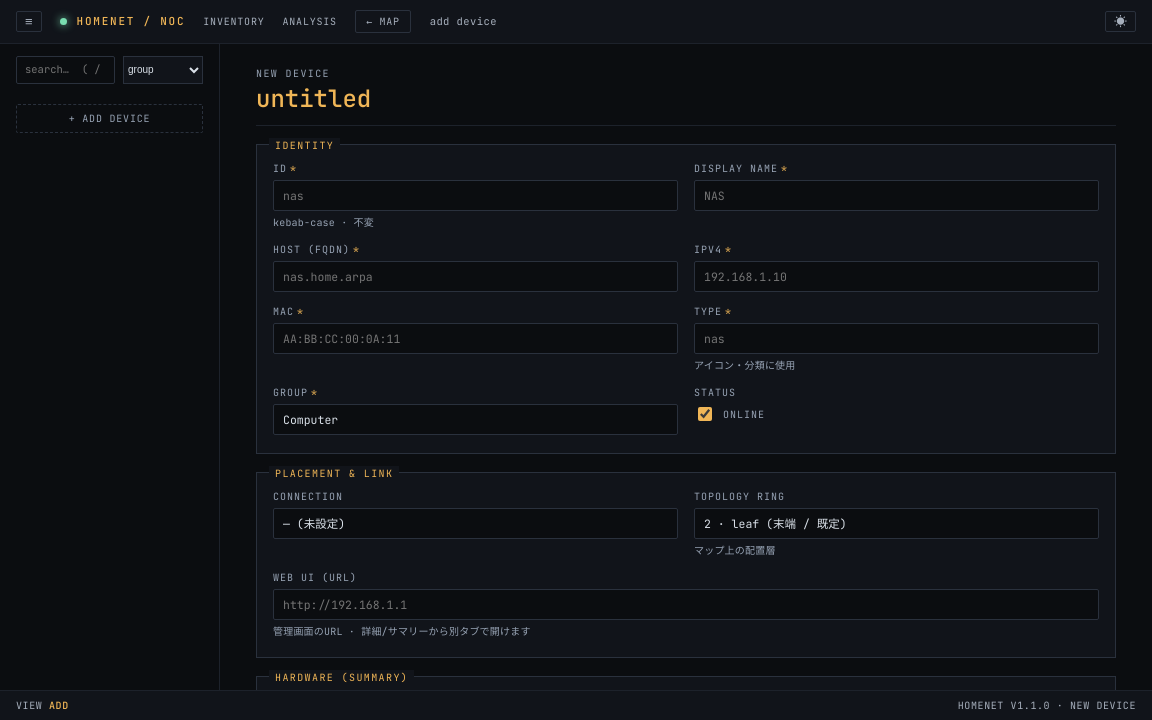
Test: EditView (add mode) › blocks submit and shows an inline error for an invalid IP
Type "Box" into the field labelled "display name*" at coordinates (896, 196), box x1=694 y1=180 x2=1099 y2=211
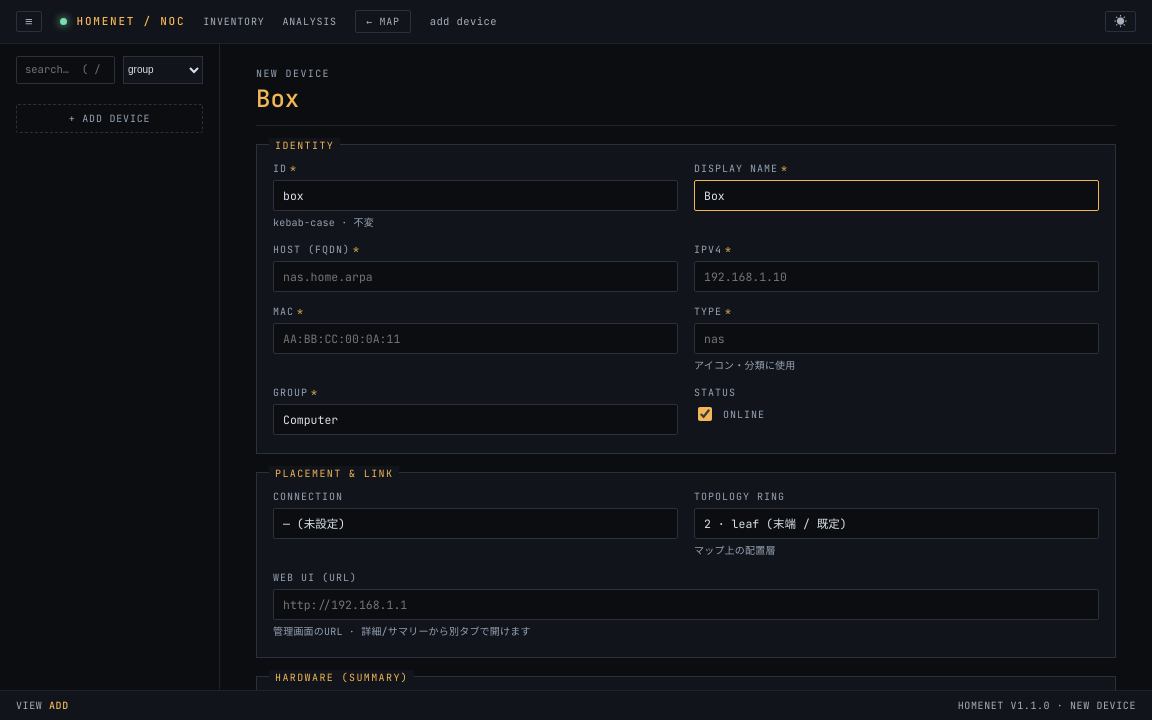
Type "box.home.arpa" into the field labelled "host (fqdn)*" at coordinates (476, 276), box x1=273 y1=261 x2=678 y2=292
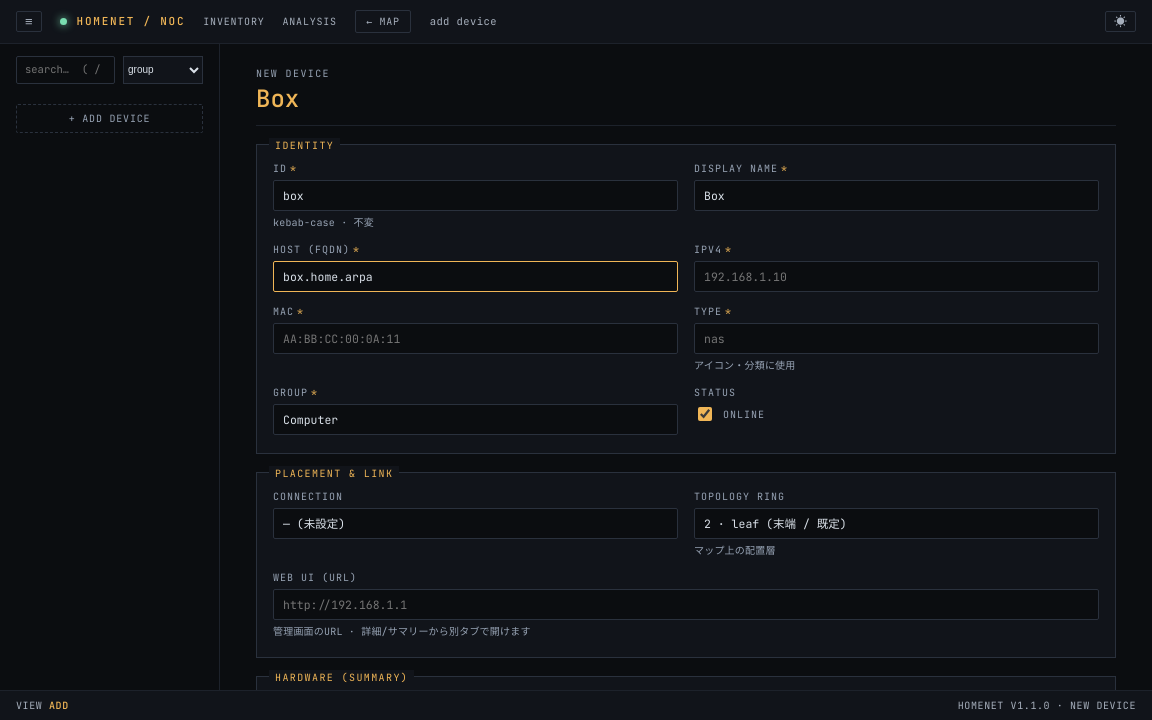
Type "desktop" into the field labelled "type*" at coordinates (896, 338), box x1=694 y1=323 x2=1099 y2=354
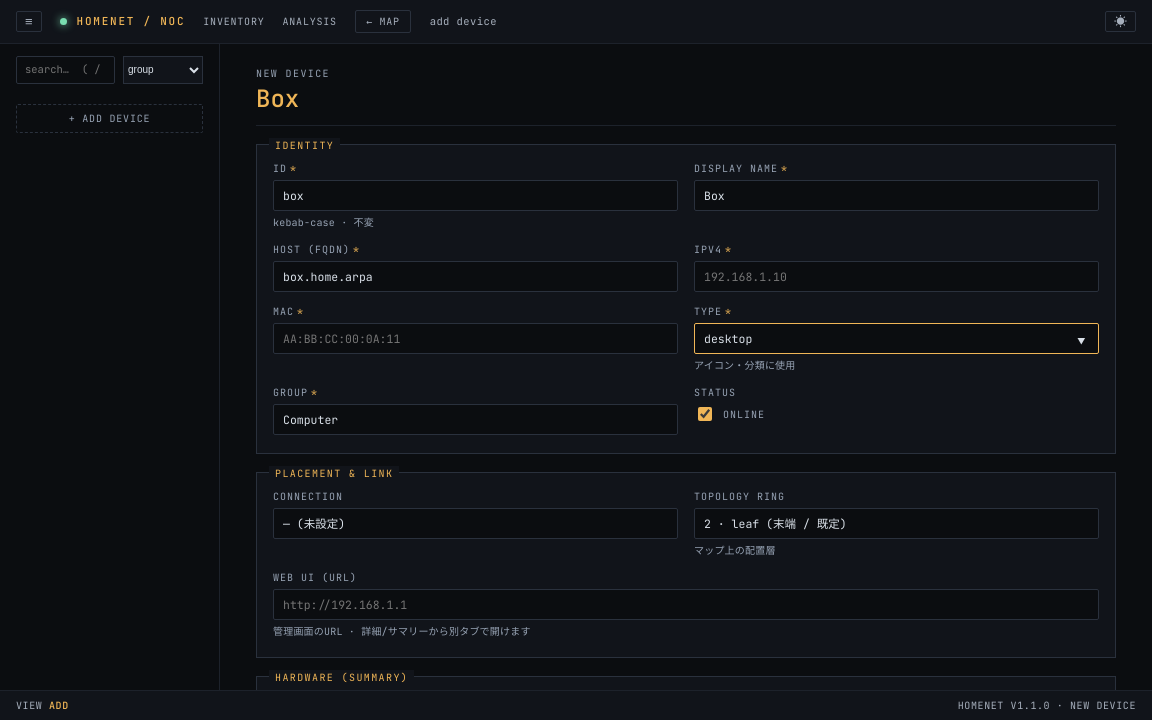
Type "AA:BB:CC:DD:EE:FF" into the field labelled "mac*" at coordinates (476, 338), box x1=273 y1=323 x2=678 y2=354
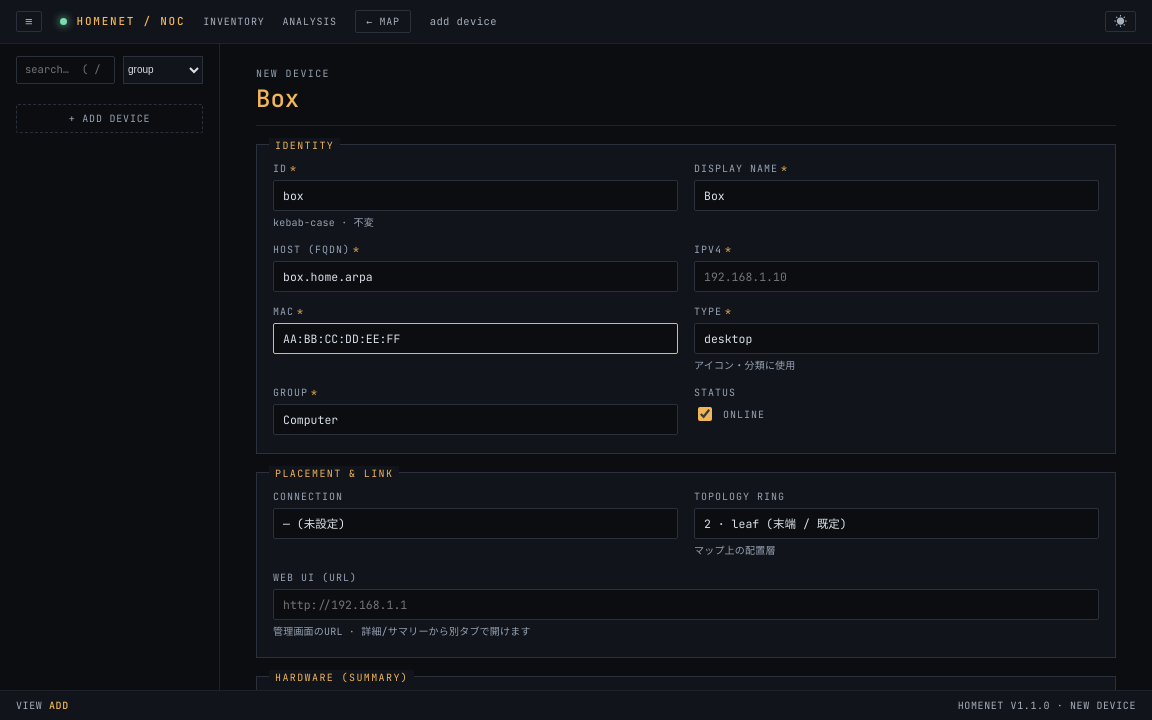
Type "999.1.1.1" into the field labelled "ipv4*" at coordinates (896, 276), box x1=694 y1=261 x2=1099 y2=292
(page scrolled)
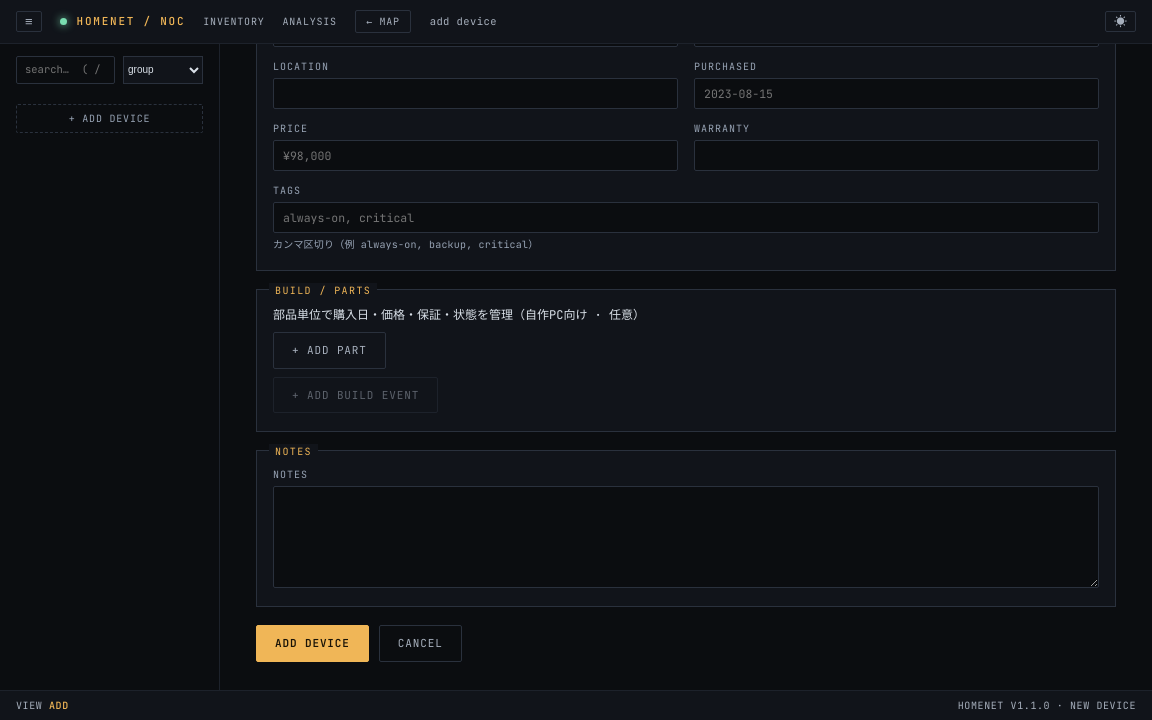
Click the button "add device" at coordinates (312, 644), box x1=256 y1=625 x2=369 y2=662
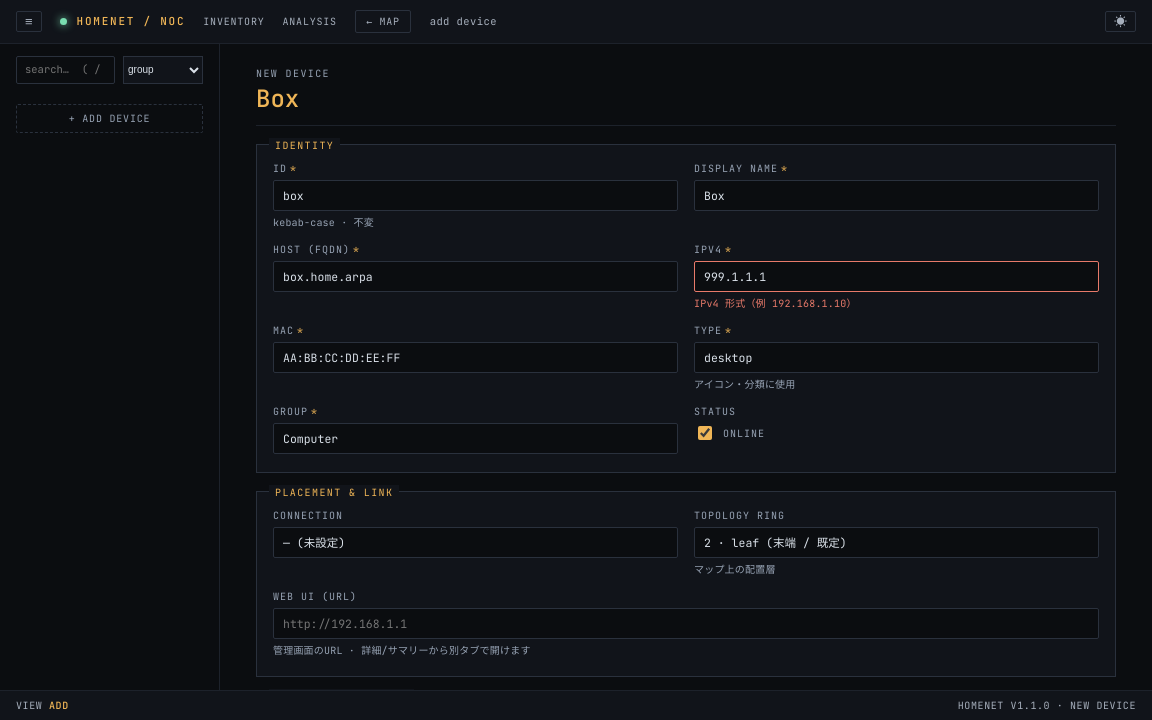
Check: the text "IPv4 形式（例 192.168.1.10）" is shown, box x1=694 y1=297 x2=857 y2=310
